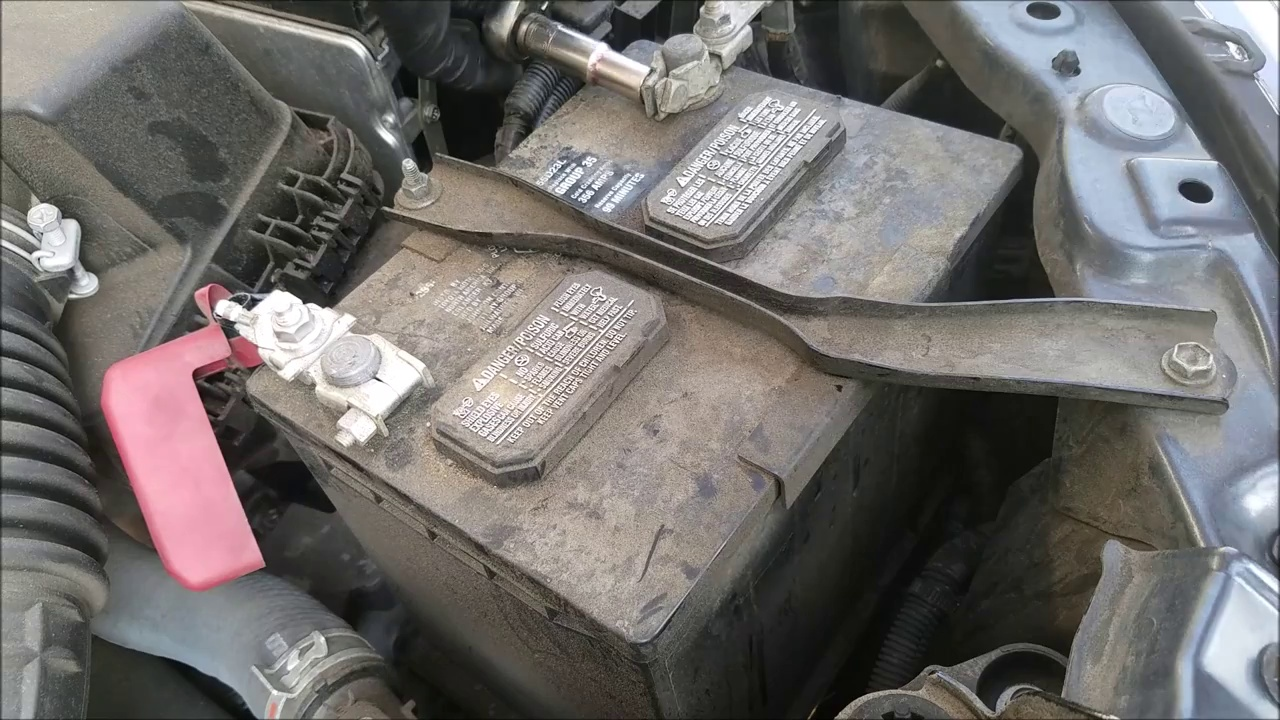battery: (267, 27, 991, 644)
neg_connected: (632, 14, 761, 127)
pos_connected: (111, 285, 415, 529)
